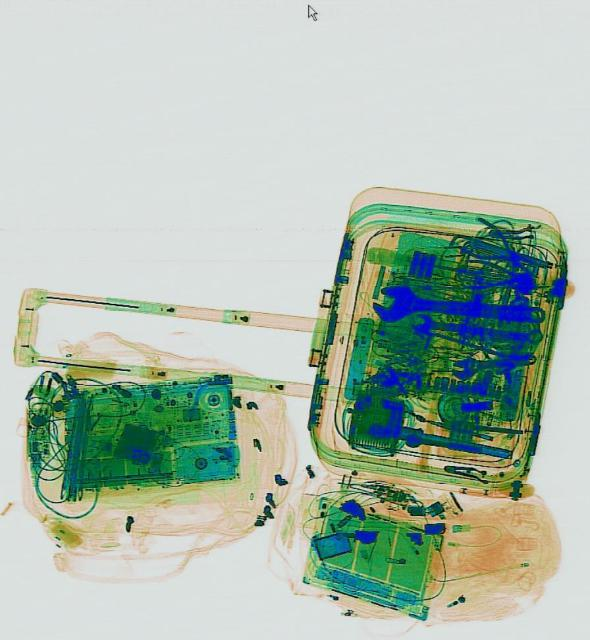Pliers: (451, 212, 553, 290), (459, 254, 538, 300)
Wrench: (369, 280, 544, 330), (410, 311, 547, 349), (445, 348, 533, 378)
